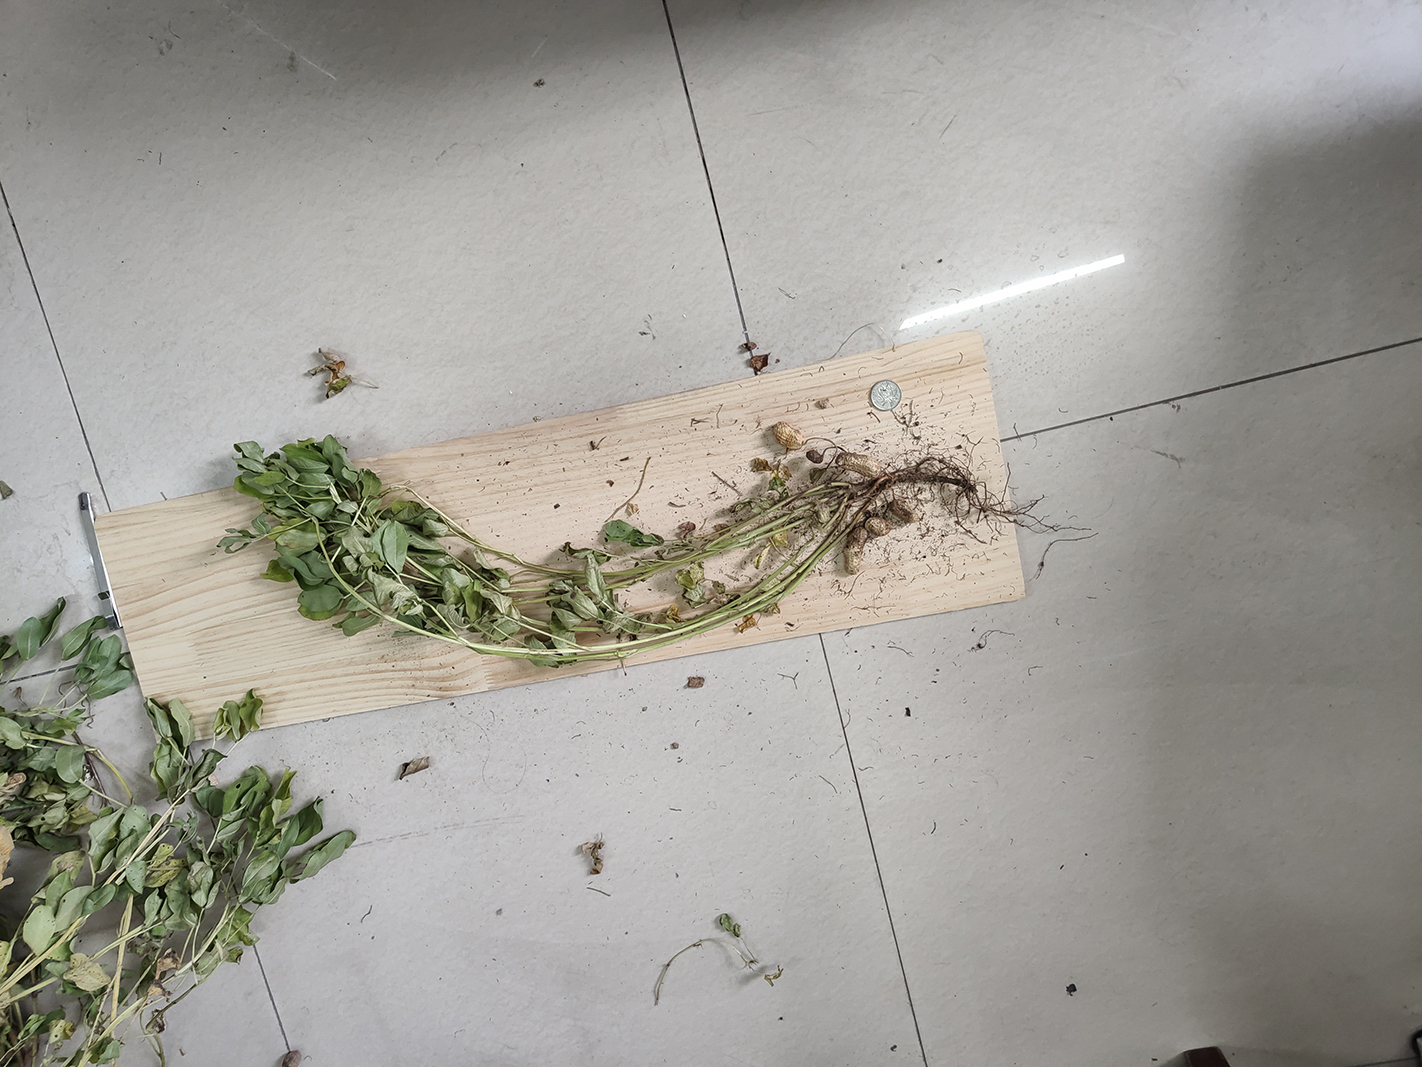h: (834, 452, 881, 479), (843, 526, 868, 574), (771, 420, 803, 448), (865, 516, 891, 536)
l: (889, 499, 918, 525), (806, 449, 822, 464)
